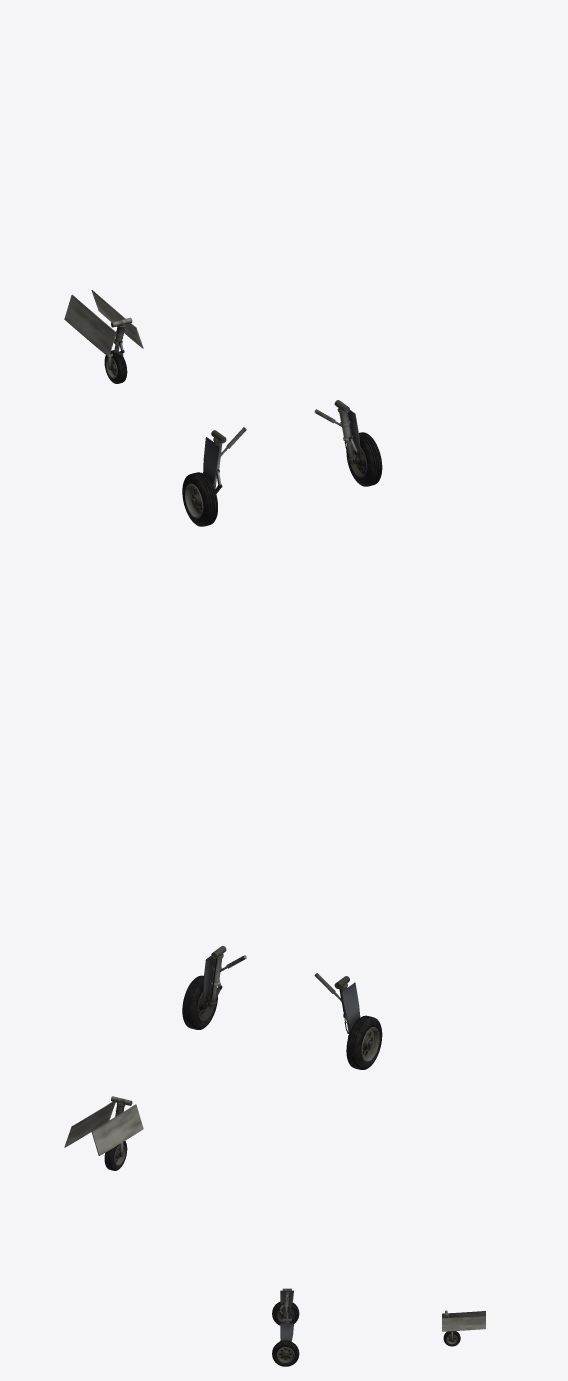
File: e_mig21n_gear.glb
The picture shows the model from 3 angles, top to bottom: view 1: azimuth 30°, elevation 25°; view 2: azimuth 150°, elevation 25°; view 3: azimuth 270°, elevation 25°; orthographic projection. The views are drawn at different scales.
Visible parts, largest first — view 1: body|MIG21_paint; view 2: body|MIG21_paint; view 3: body|MIG21_paint.
Part boxes in pixels (x1,y1,x2,y2): body|MIG21_paint: (64,290,382,526); body|MIG21_paint: (64,946,382,1170); body|MIG21_paint: (272,1288,485,1366).
Size of the model in its own units: 3.03 by 4.77 by 15.9.
1 material, 1 textured.
